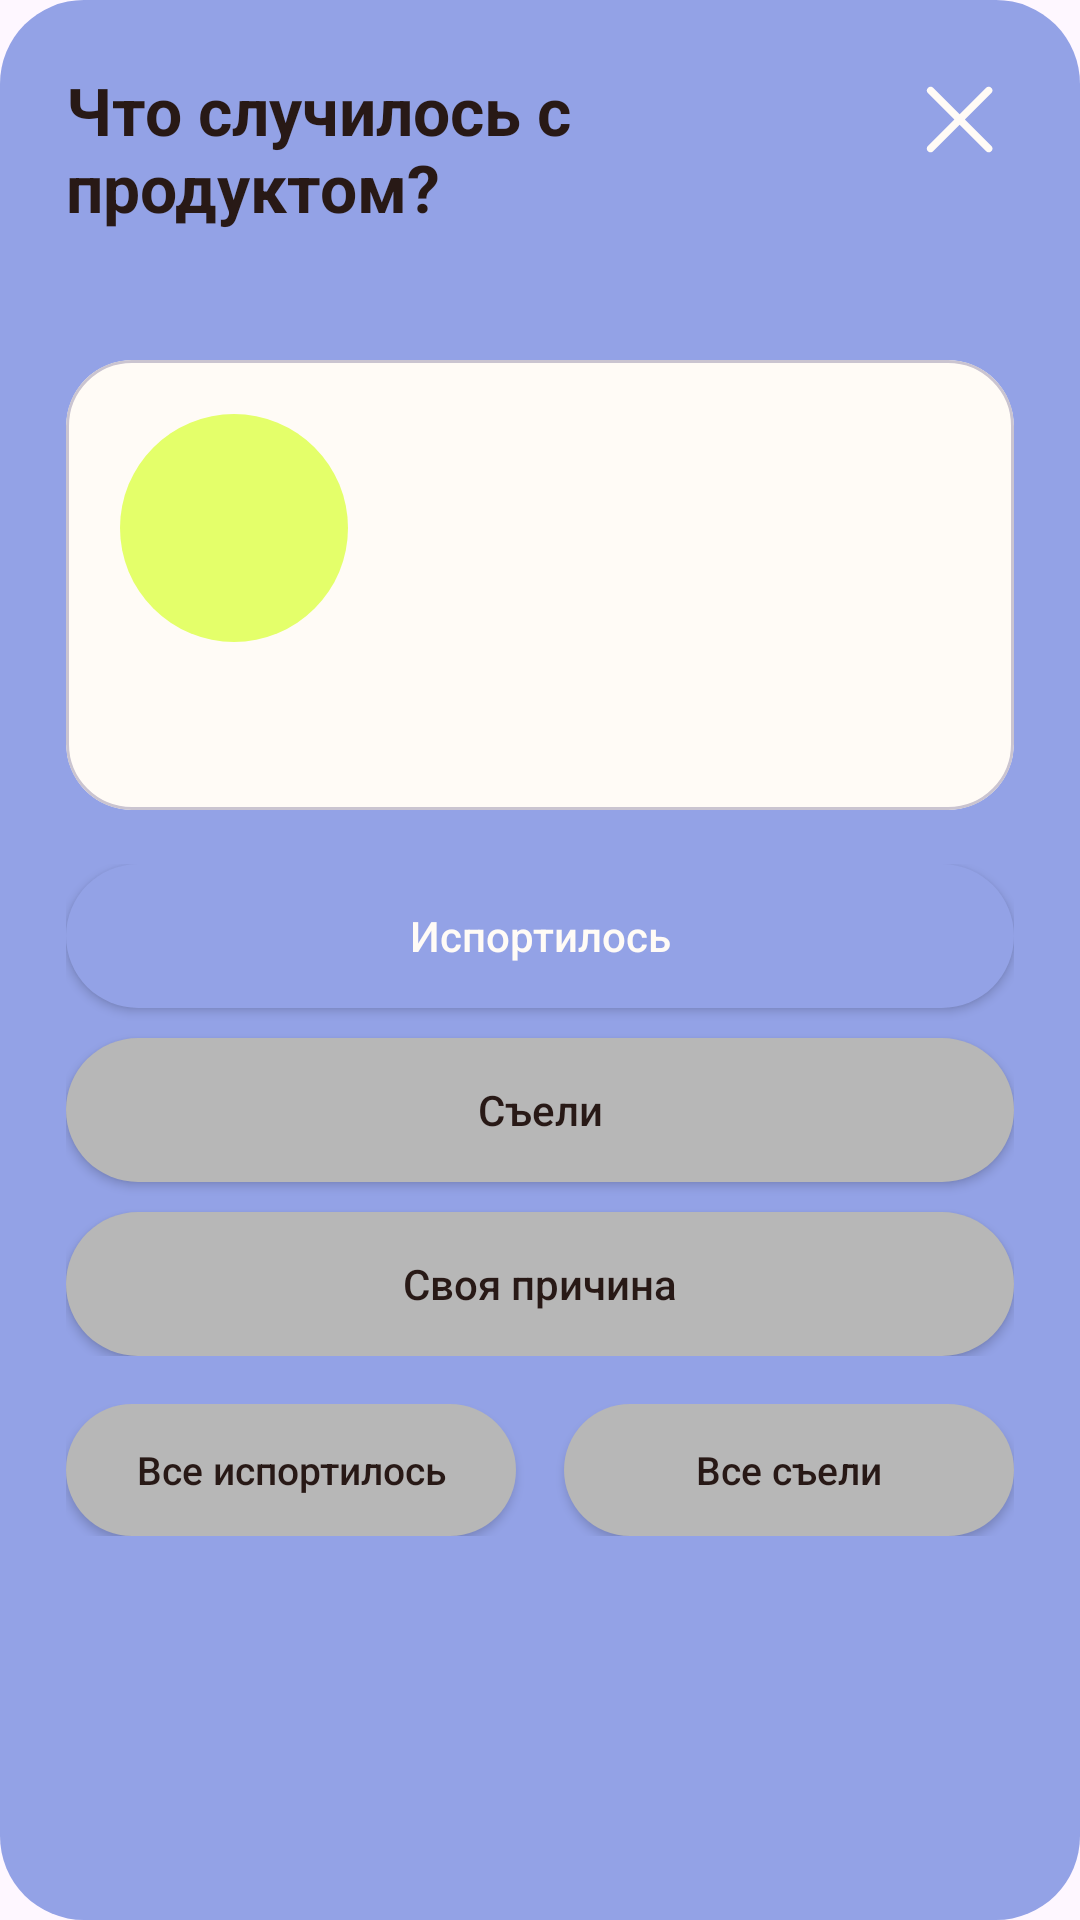

Icons on this 1080 × 1920 Android screen, each with the point to tap as (x,y):
Закрыть: (959,119)
